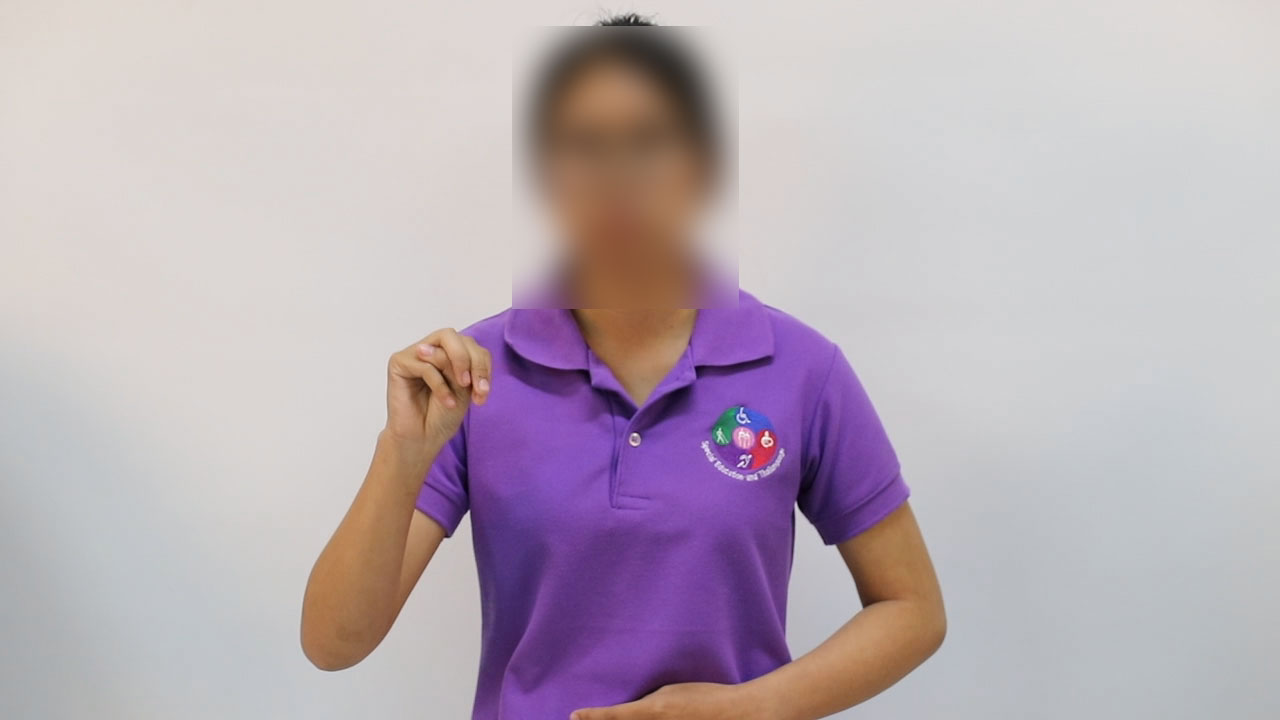mor: (384, 310, 494, 468)
